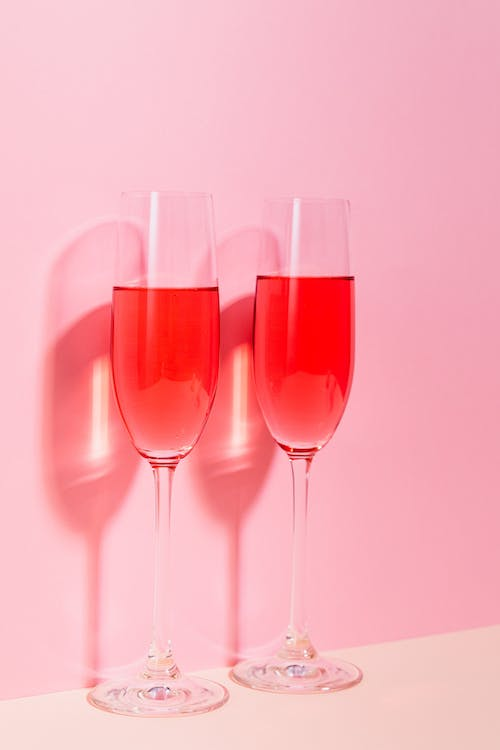alcohol: (85, 189, 230, 720), (228, 193, 366, 697)
